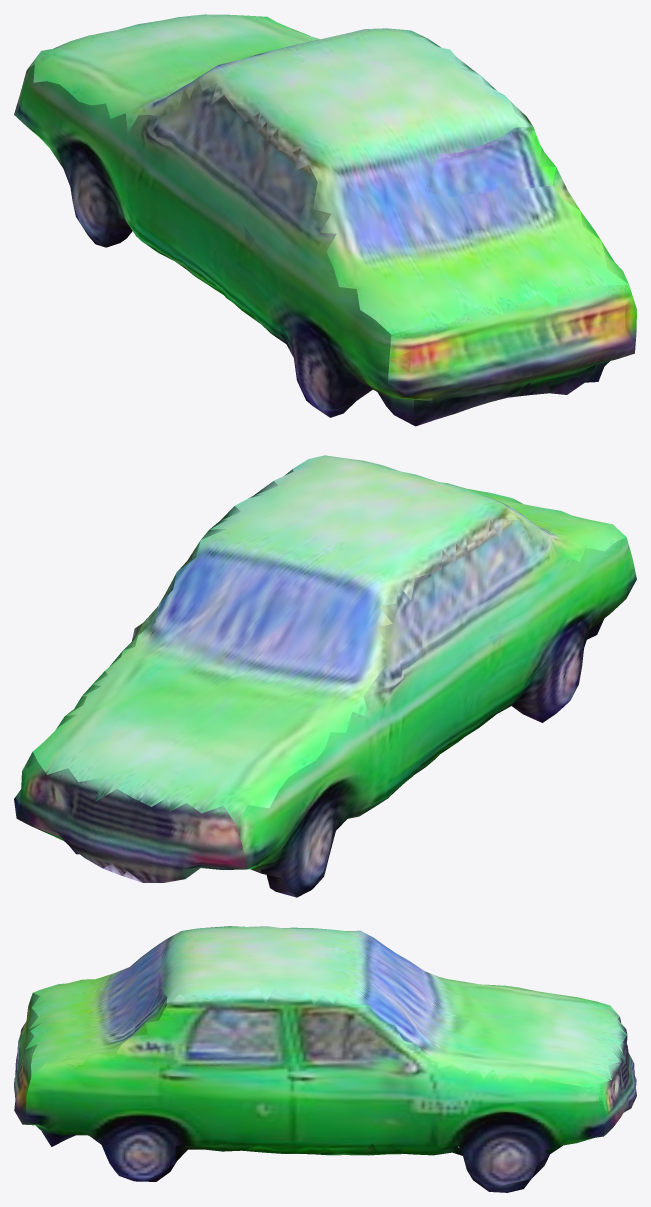
The model's file is dacie-3b.glb.
3 renders of one model, top to bottom at view 1: azimuth 30°, elevation 25°; view 2: azimuth 150°, elevation 25°; view 3: azimuth 270°, elevation 25°, orthographic. The views are drawn at different scales.
Visible parts, largest first — view 1: geometry_0.002; view 2: geometry_0.002; view 3: geometry_0.002.
Boxes of the visible parts, x1=… form: geometry_0.002: x1=14, y1=14, x2=636, y2=426; geometry_0.002: x1=14, y1=455, x2=636, y2=897; geometry_0.002: x1=14, y1=926, x2=636, y2=1192.
Size of the model in its own units: 1.88 by 1.71 by 4.88.
Materials: 1 (1 with a texture image).
